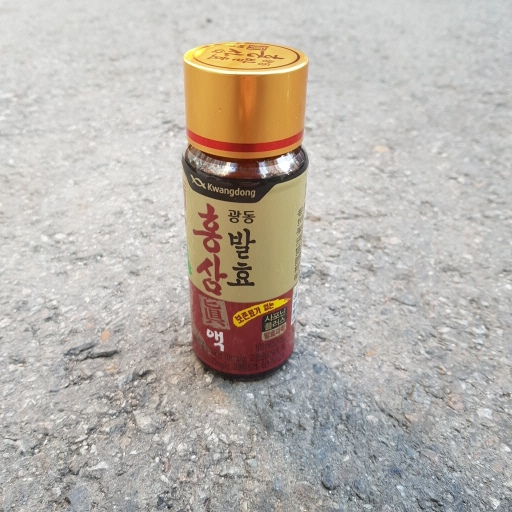Glass_3: (171, 38, 315, 384)
